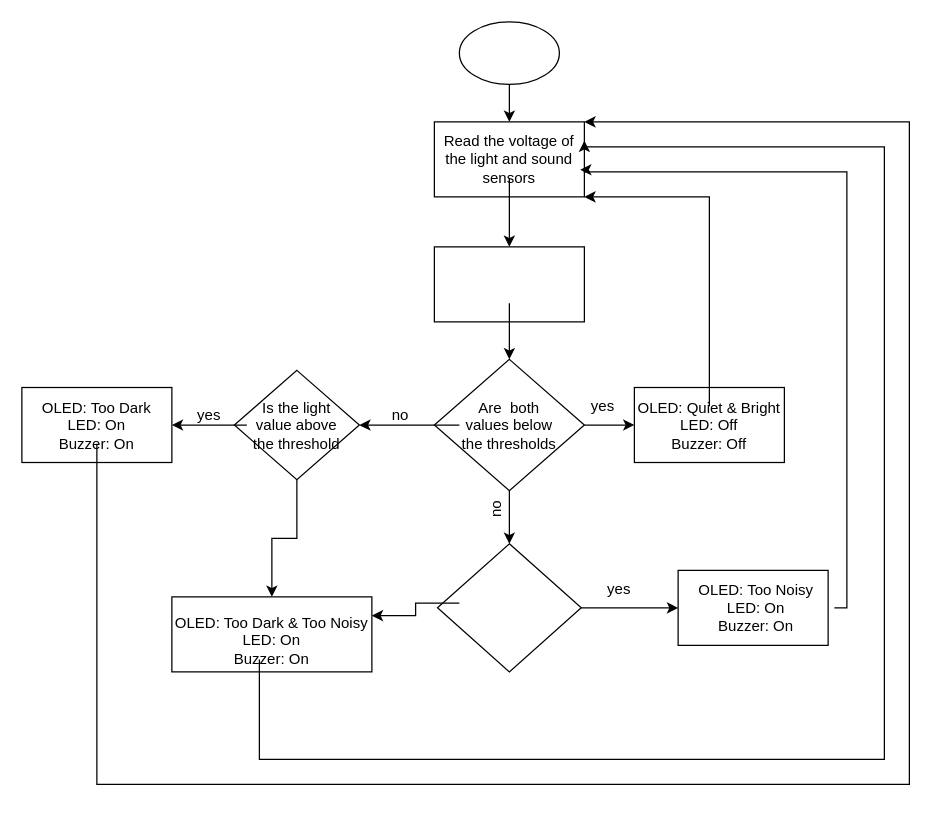
This 941x816 diagram has some shape labels left out. The box of each missing label's shape, as (x1, y1, x2, y2) in pixels:
Compare these values to the thresholds: (433, 246, 584, 322)
Is the sound value above the threshold: (436, 542, 581, 672)
Start: (458, 21, 559, 84)
